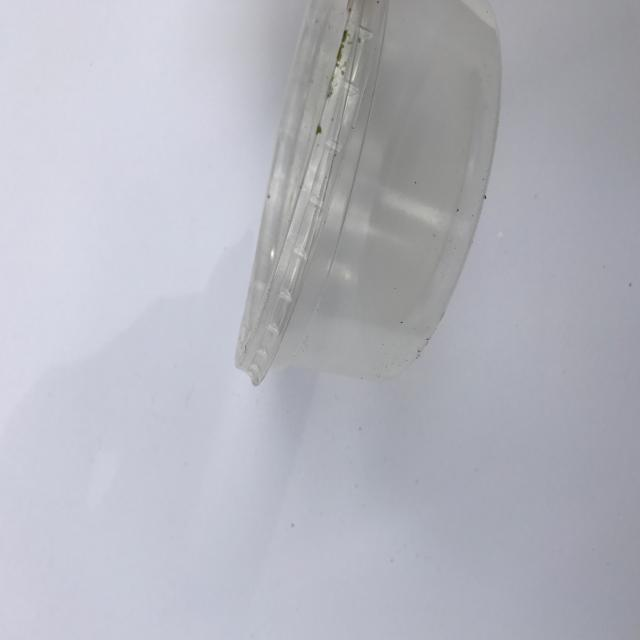plastic: (234, 0, 503, 387)
